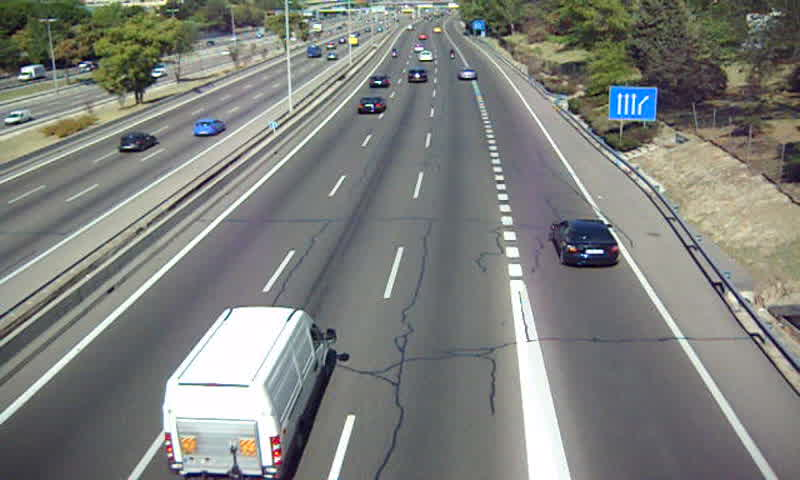car: (551, 219, 619, 267), (357, 96, 384, 114), (405, 68, 427, 85), (367, 74, 390, 88), (457, 67, 478, 82), (417, 50, 436, 62)
van: (161, 306, 337, 478)
